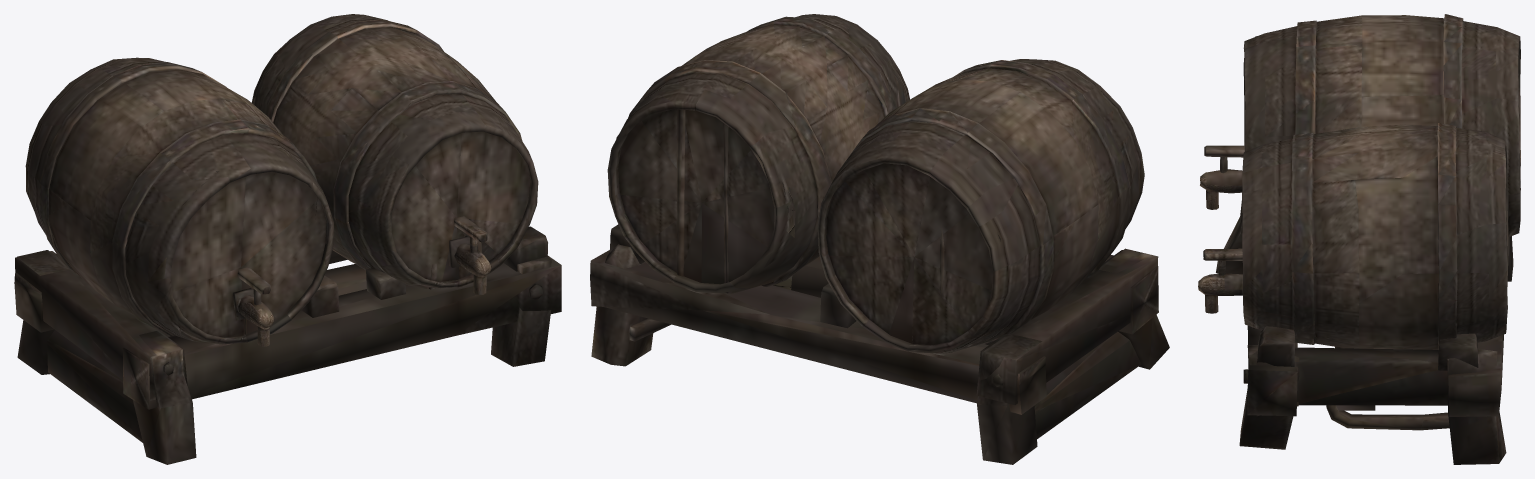
File: d_keg_decorated.glb
3 renders of one model, left to right at view 1: azimuth 30°, elevation 25°; view 2: azimuth 150°, elevation 25°; view 3: azimuth 270°, elevation 25°, orthographic. The views are drawn at different scales.
Parts seen in each view (by area): view 1: d_keg_decorated; view 2: d_keg_decorated; view 3: d_keg_decorated.
Part boxes in pixels (x1,y1,x2,y2): d_keg_decorated: (14, 14, 561, 464); d_keg_decorated: (590, 14, 1169, 464); d_keg_decorated: (1198, 14, 1520, 464).
Bounding box in the file's own units: 2.94 × 1.98 × 2.
Materials: 1 (1 with a texture image).
